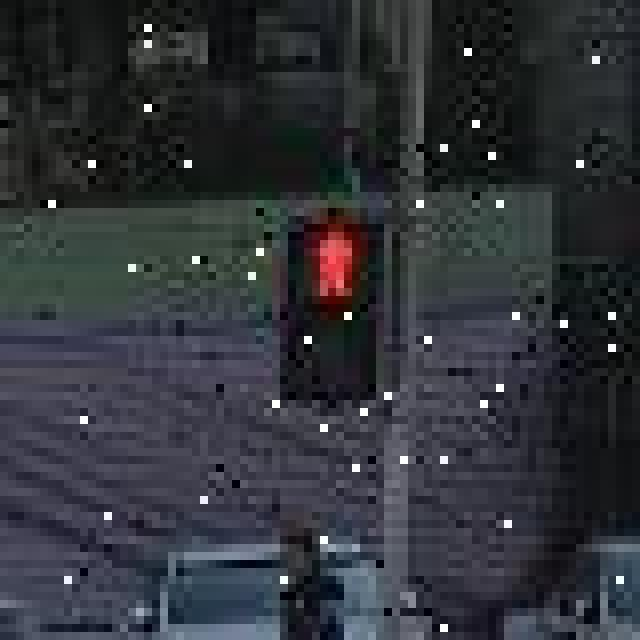redlight: (278, 214, 378, 412)
